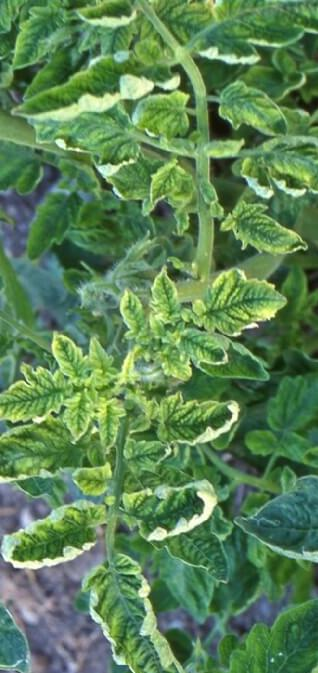Tomato leaf yellow virus: (85, 553, 204, 673), (0, 491, 106, 572), (188, 267, 291, 341), (126, 484, 221, 543), (225, 198, 314, 256), (0, 368, 74, 433), (156, 393, 242, 445), (130, 87, 197, 143), (57, 390, 97, 444)
